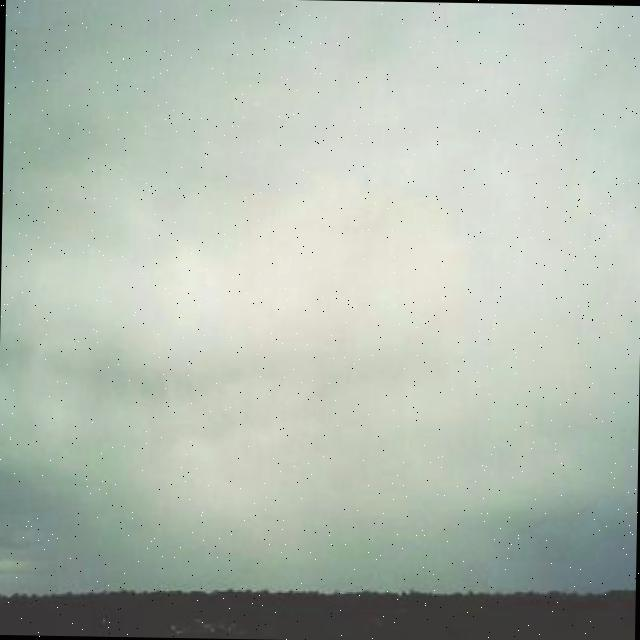Ns: (1, 1, 640, 549)
